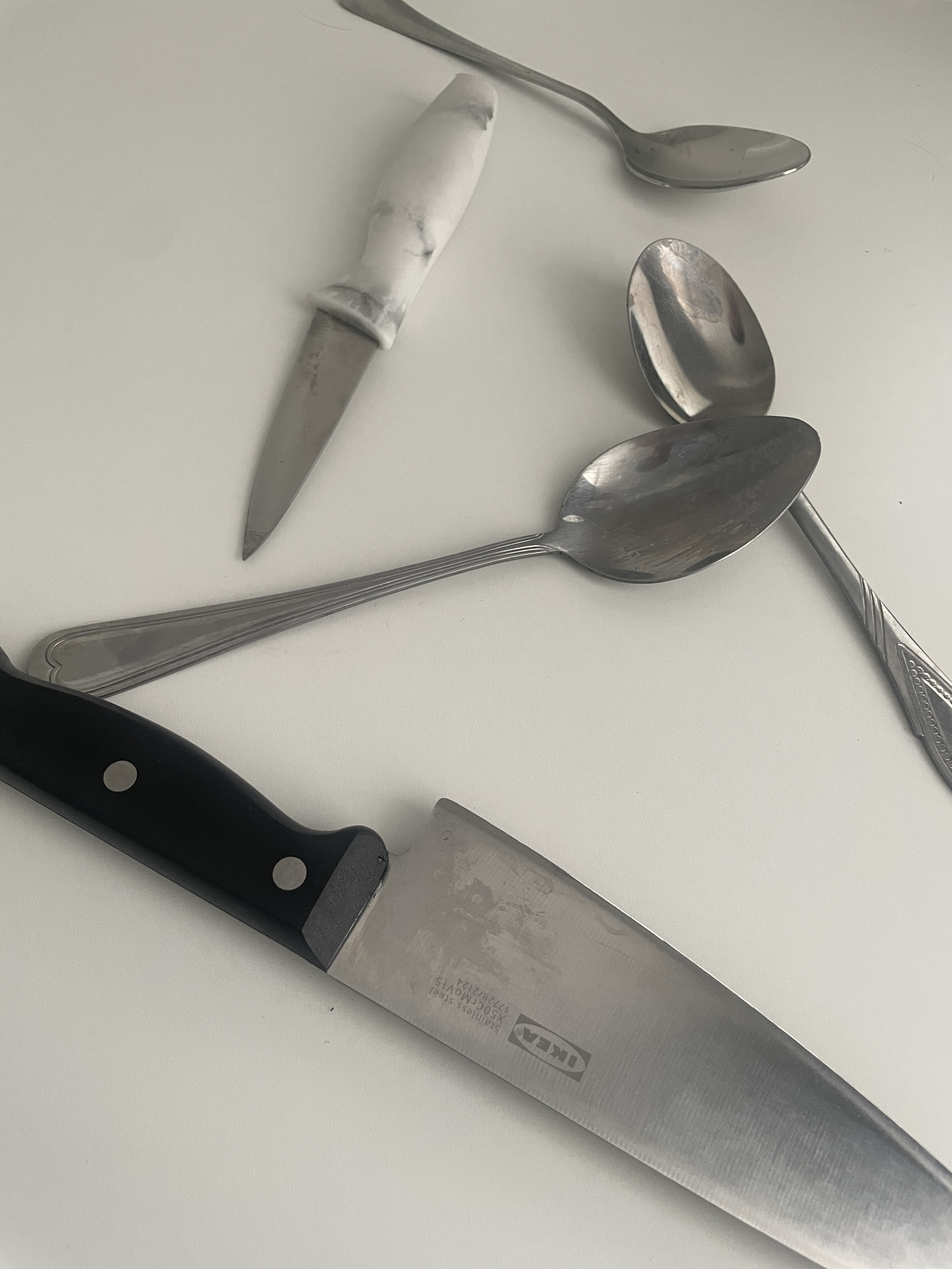knife: (0, 659, 952, 1269), (242, 73, 497, 559)
spoon: (28, 416, 820, 697), (627, 239, 952, 795), (339, 0, 811, 189)
